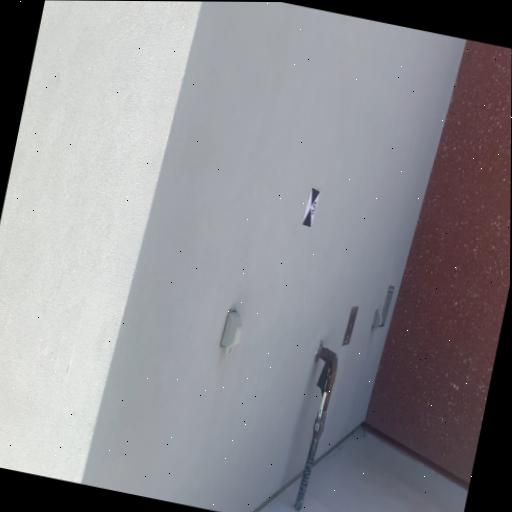target5: (301, 186, 321, 228)
